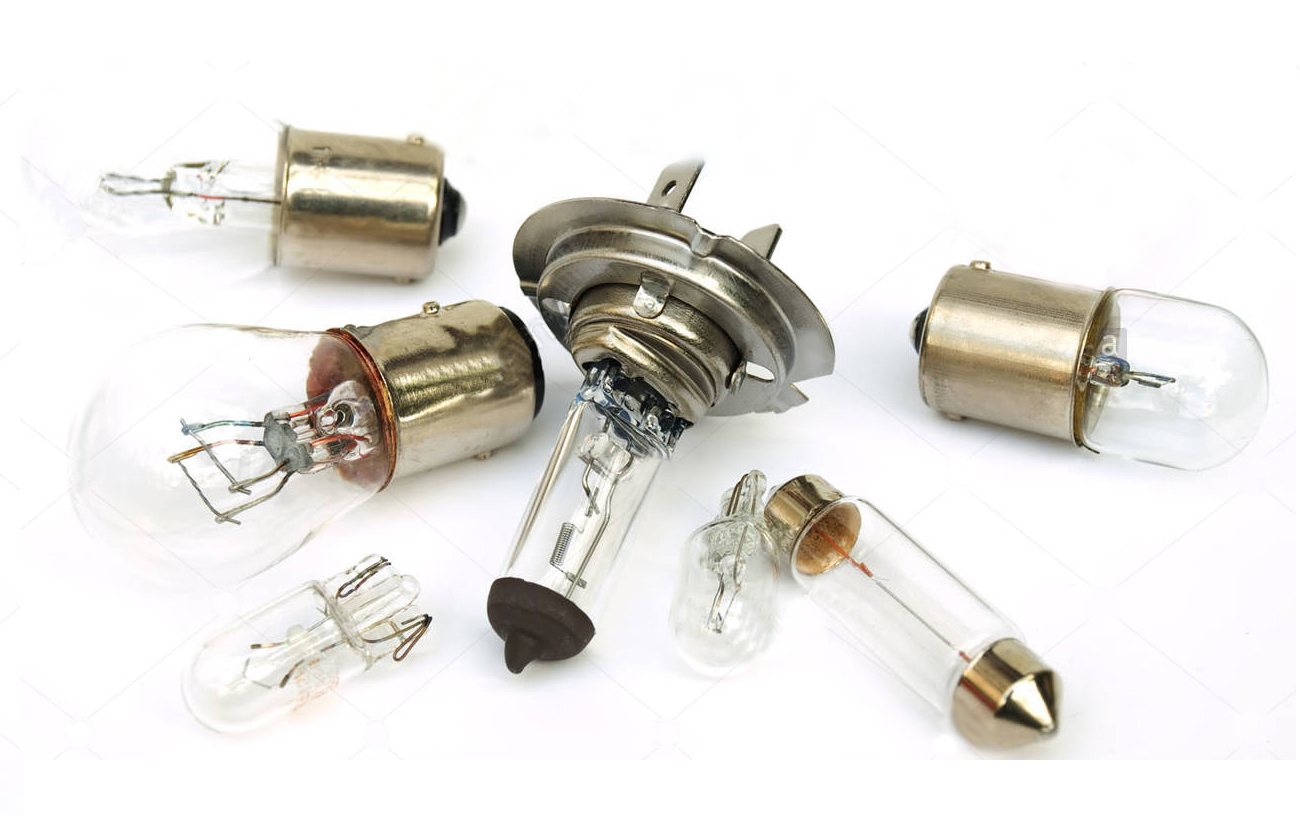Light_bulb: (483, 181, 817, 708), (55, 278, 556, 586), (12, 56, 463, 291), (753, 464, 1089, 760), (908, 236, 1277, 487), (170, 553, 441, 774), (661, 440, 791, 693)
